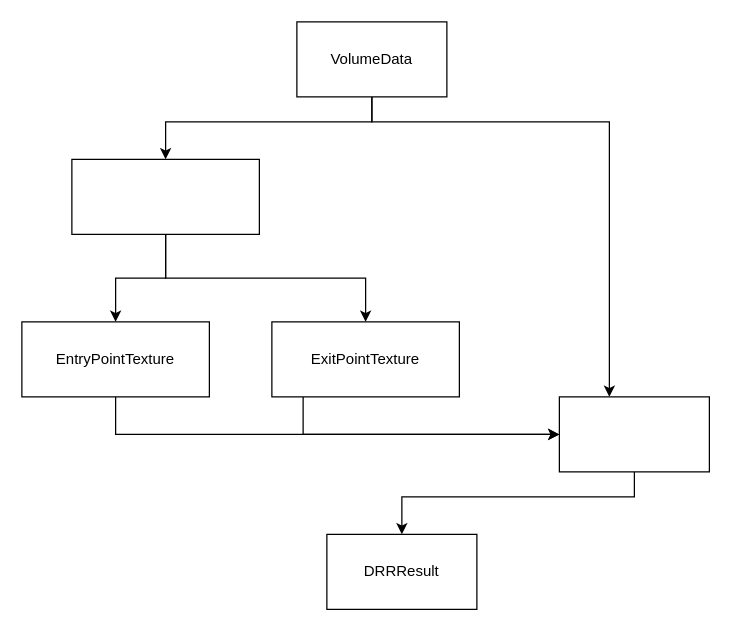
Some shapes in this 731 by 631 pixel diagram are drawn without their labels. The shapes that lost their labels are listed below. From the top down, each one's centre as x and y in pixels, then its label:
At point (165, 196): "EntryExitPointRenderPass".
At point (633, 434): "DRRRenderPass".
